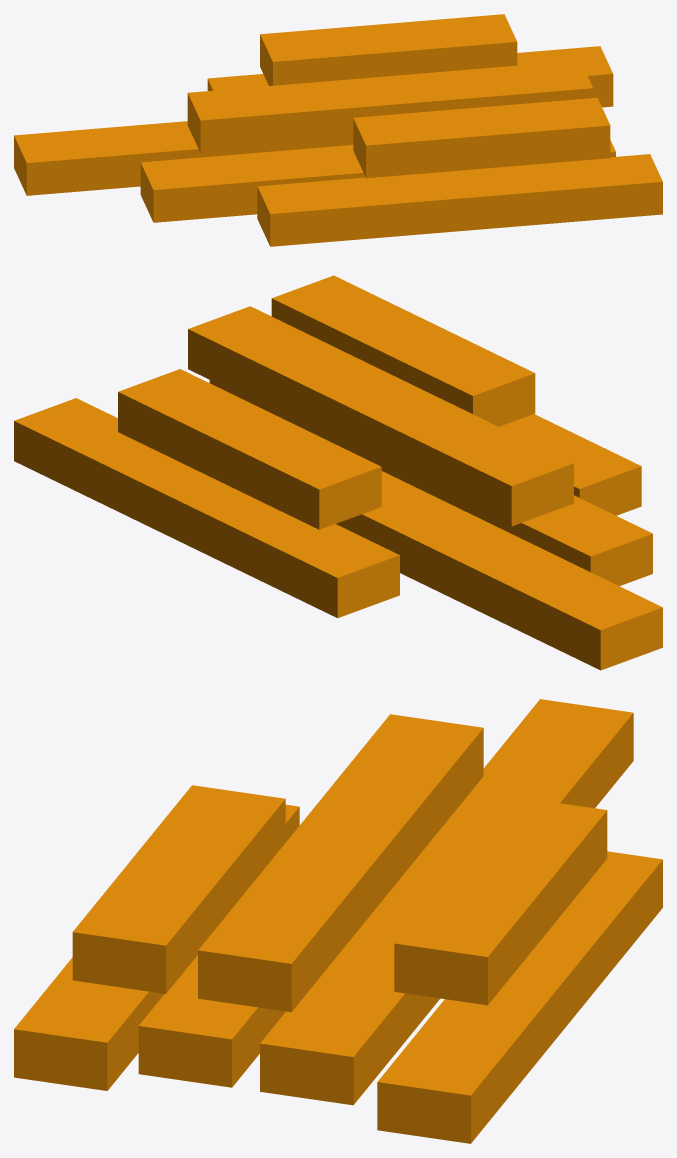
The model's file is Fries.001.fbx.
The picture shows the model from 3 angles, top to bottom: view 1: azimuth 30°, elevation 25°; view 2: azimuth 150°, elevation 25°; view 3: azimuth 270°, elevation 25°; orthographic projection. The views are drawn at different scales.
Visible parts, largest first — view 1: Fries.001; view 2: Fries.001; view 3: Fries.001.
Part boxes in pixels (left/top/right/bottom): Fries.001: left=14, top=14, right=662, bottom=246; Fries.001: left=14, top=275, right=662, bottom=670; Fries.001: left=14, top=699, right=662, bottom=1143.
Bounding box in the file's own units: 9.97 × 1.43 × 6.89.
